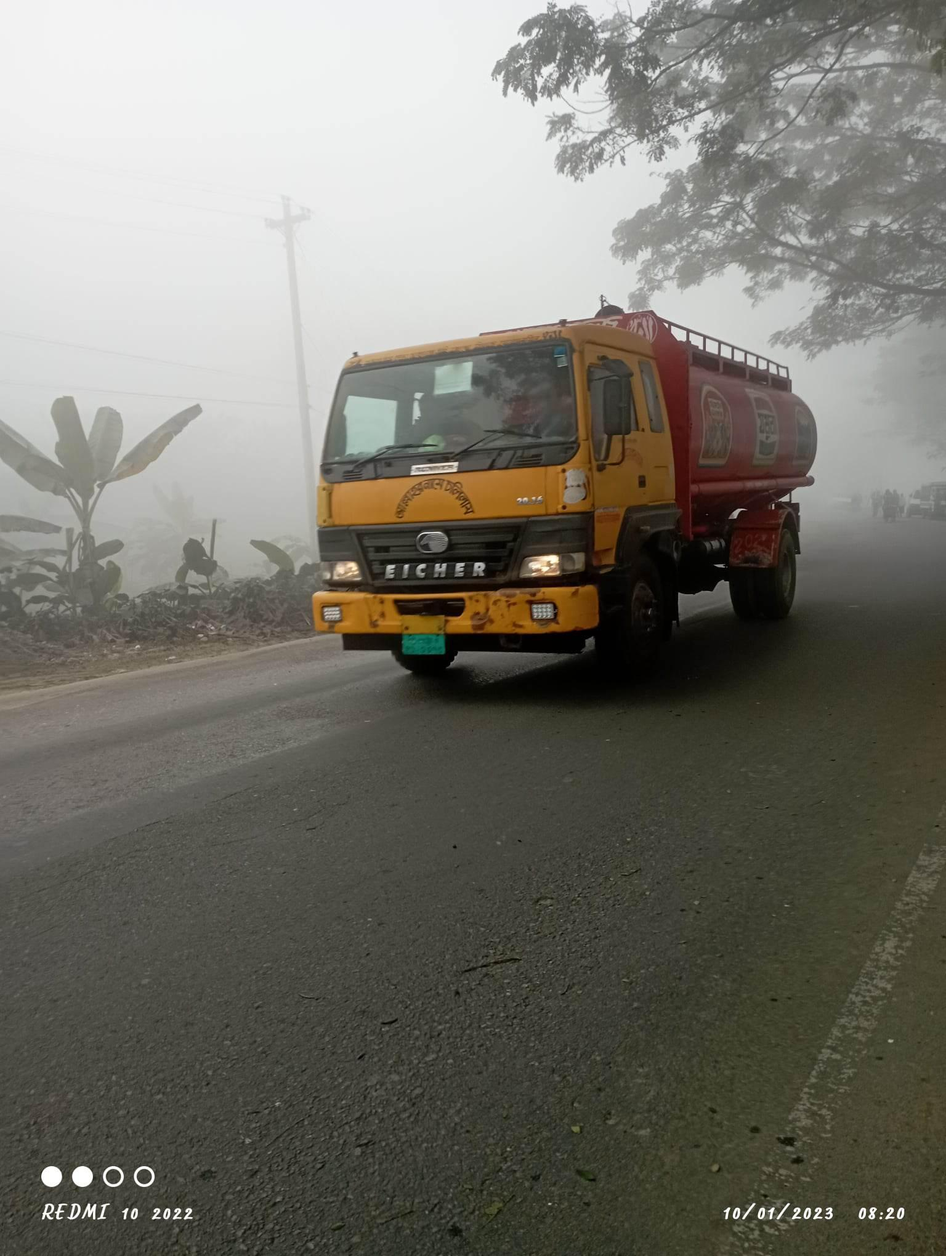Truck: (280, 289, 836, 685)
